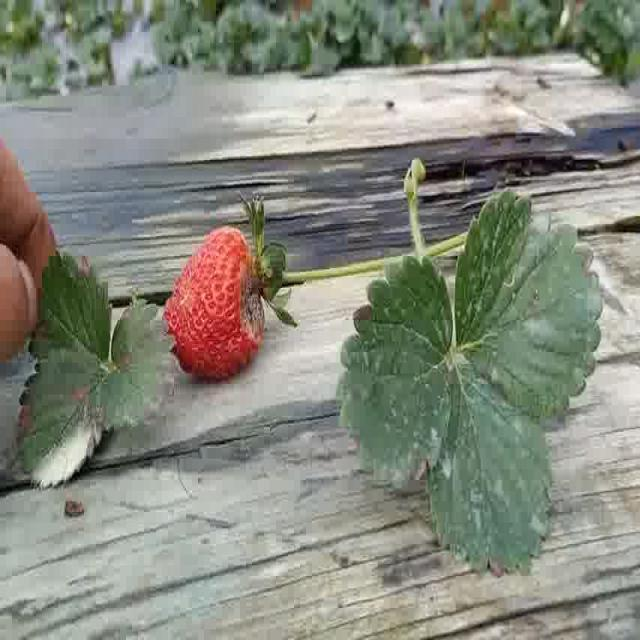Mancha negra Antracnosis: (159, 225, 271, 380)
